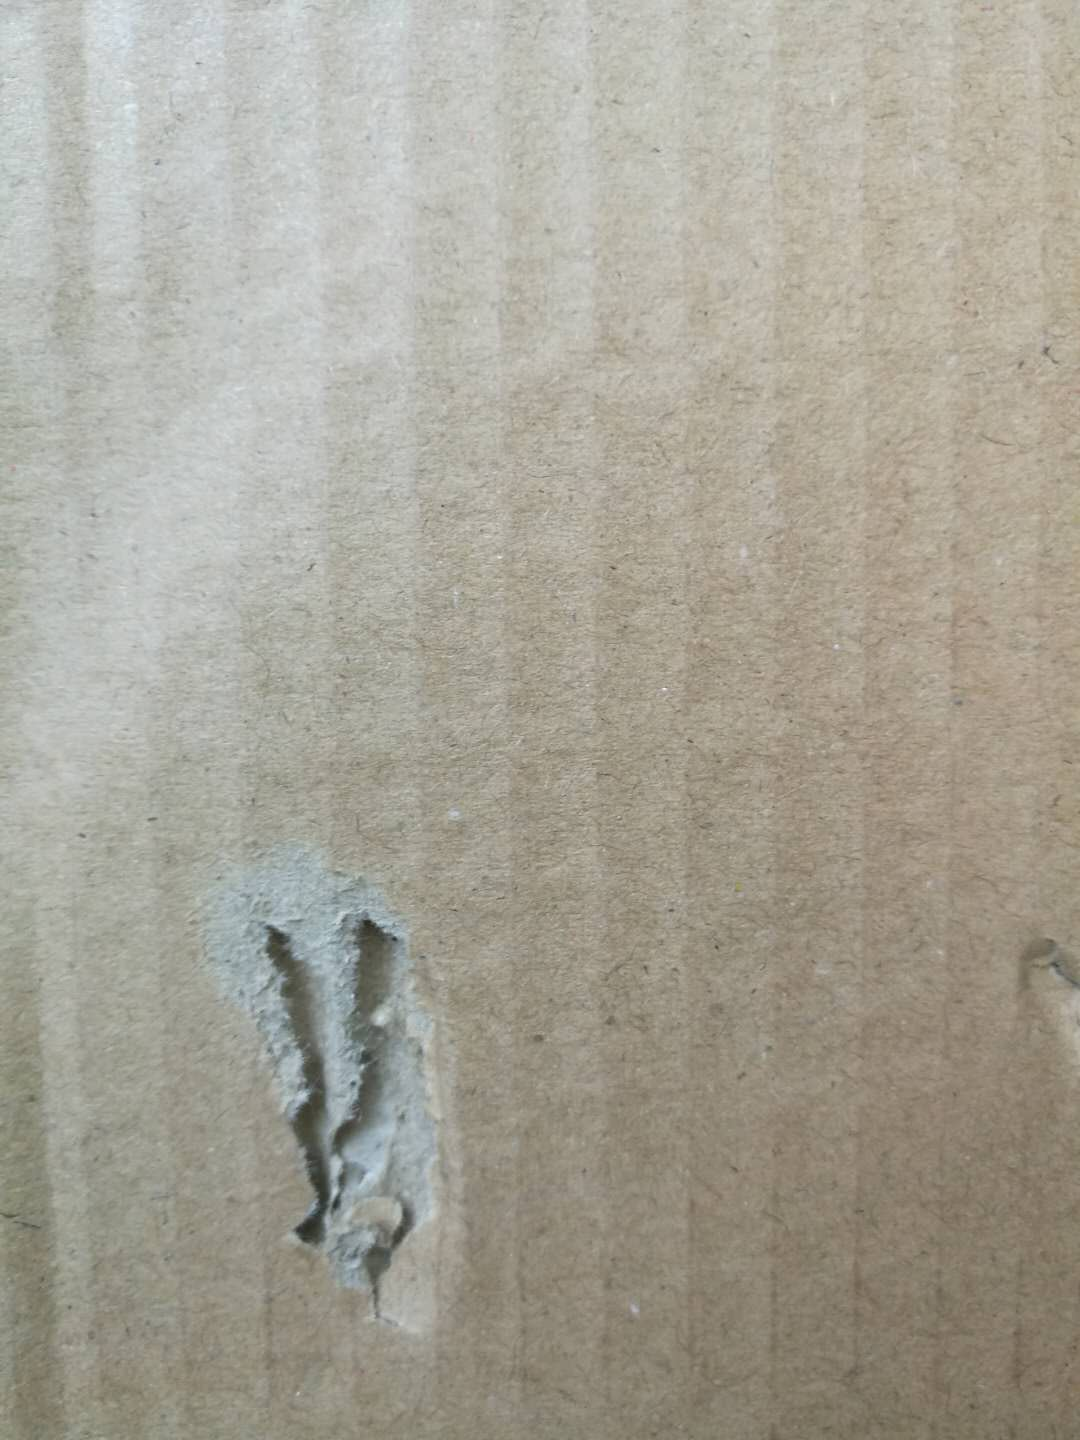defect: (188, 818, 500, 1367), (1, 930, 142, 1440), (988, 910, 1080, 1086)
